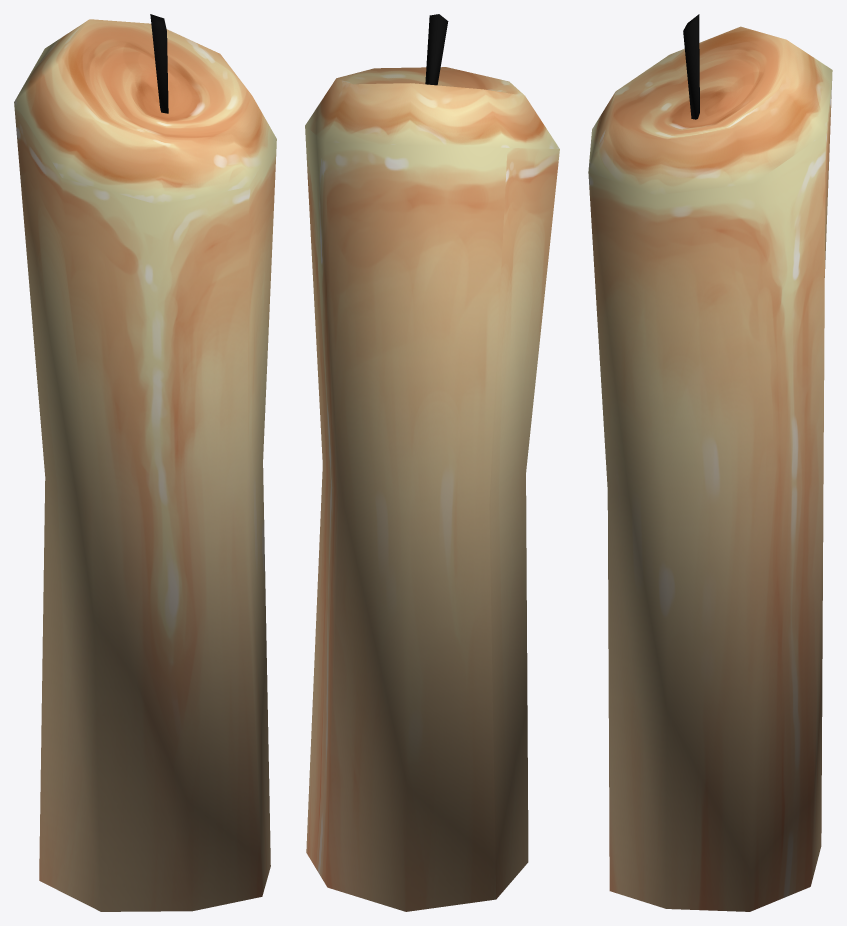
The model's file is SM_PROP_candle_dungeon_11.fbx.
3 views of the same model, side by side, from view 1: azimuth 30°, elevation 25°; view 2: azimuth 150°, elevation 25°; view 3: azimuth 270°, elevation 25° (orthographic). The views are drawn at different scales.
Parts seen in each view (by area): view 1: SM_PROP_candle_dungeon_11; view 2: SM_PROP_candle_dungeon_11; view 3: SM_PROP_candle_dungeon_11.
Boxes of the visible parts, left/top/right/bottom form: SM_PROP_candle_dungeon_11: left=14, top=14, right=276, bottom=911; SM_PROP_candle_dungeon_11: left=305, top=14, right=559, bottom=911; SM_PROP_candle_dungeon_11: left=588, top=14, right=832, bottom=911.
Bounding box in the file's own units: 7.69 × 29.45 × 7.71.
